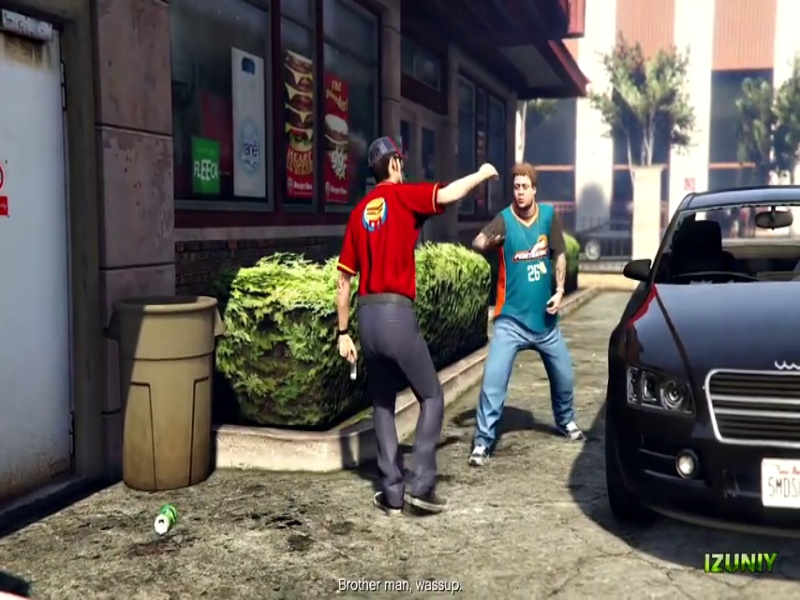human: (330, 118, 500, 514)
